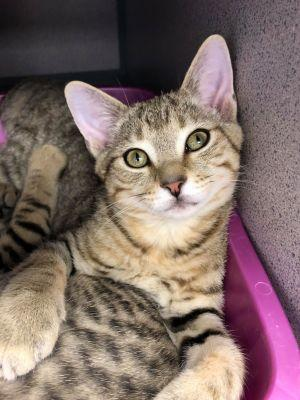bengal: (60, 31, 259, 243)
